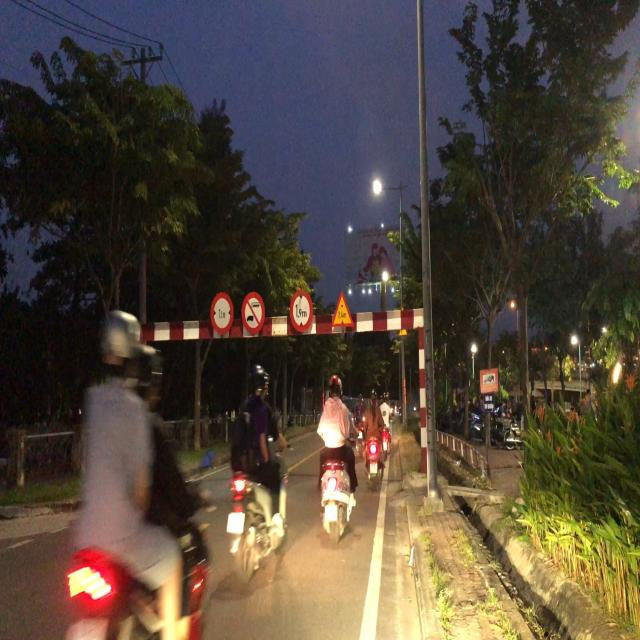Bien bao cam xe oto khach va xe oto tai: (241, 288, 267, 337)
Bien bao chieu cao tinh khong thuc te: (330, 288, 356, 331)
Bien bao han che chieu cao: (288, 288, 316, 338)
